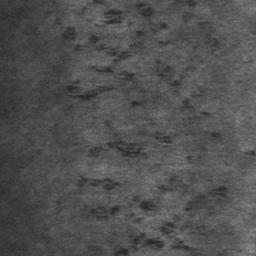Rolled in scale: (40, 0, 218, 160), (76, 147, 229, 256), (217, 229, 256, 256), (230, 149, 256, 157), (41, 228, 51, 244), (182, 0, 197, 8), (209, 132, 221, 140)
